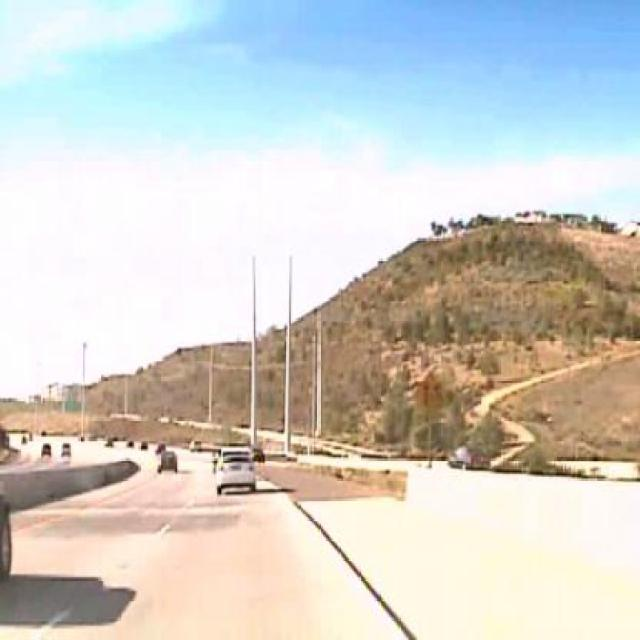addedLane: (411, 368, 450, 420)
